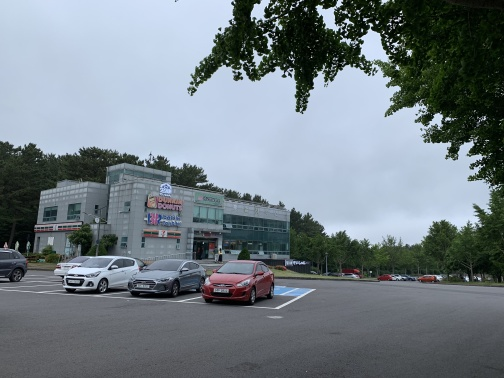Global House: (30, 161, 301, 271)
